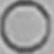no answer: (0, 0, 52, 53)
